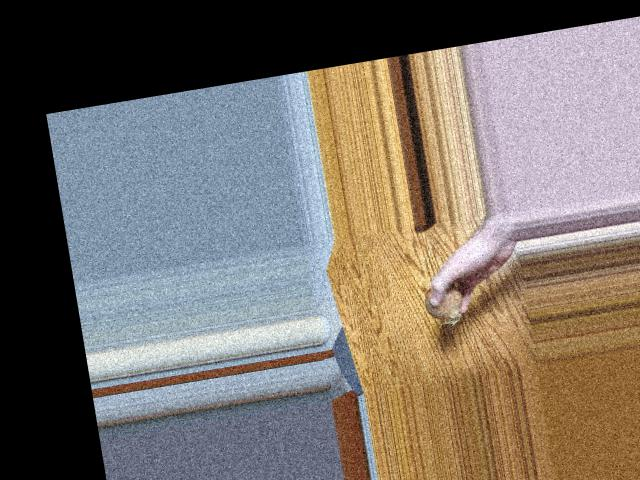onion: (424, 284, 459, 318)
